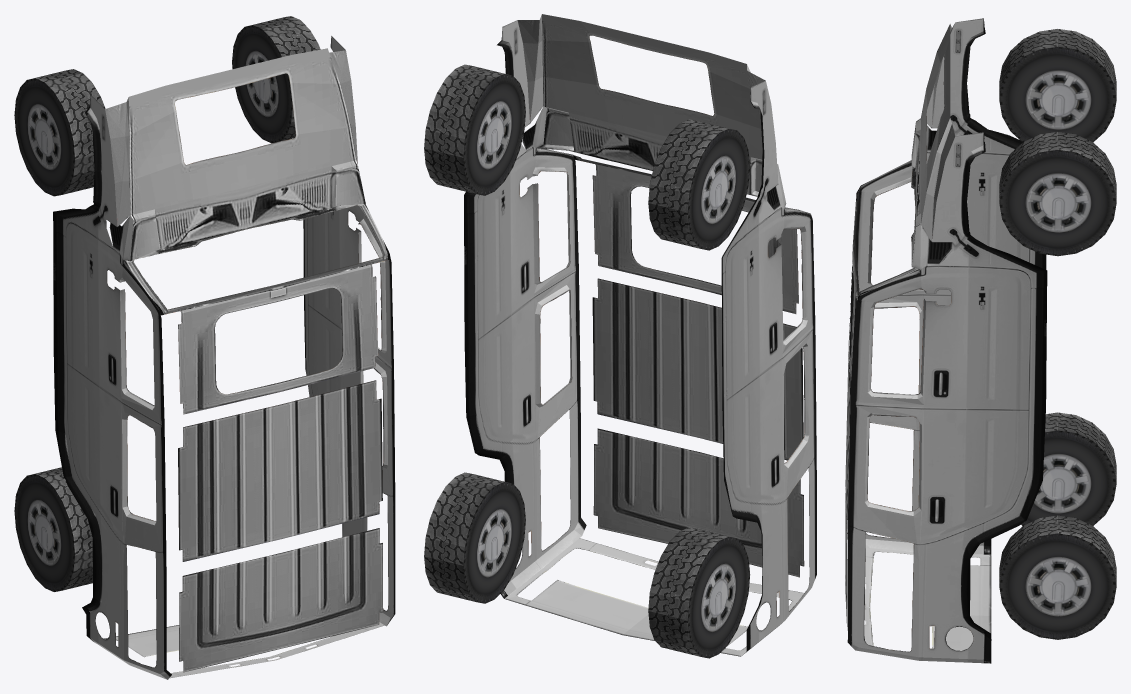
Rendered from suv.dae.
3 views of the same model, side by side, from view 1: azimuth 30°, elevation 25°; view 2: azimuth 150°, elevation 25°; view 3: azimuth 270°, elevation 25° (orthographic). The views are drawn at different scales.
Parts seen in each view (by area): view 1: node; view 2: node; view 3: node.
Boxes of the visible parts, left/top/right/bottom form: node: left=14, top=16, right=395, bottom=679; node: left=424, top=14, right=816, bottom=658; node: left=845, top=18, right=1116, bottom=663.
Bounding box in the file's own units: 43.4 × 83.67 × 35.94.
2 materials, 2 textured.
